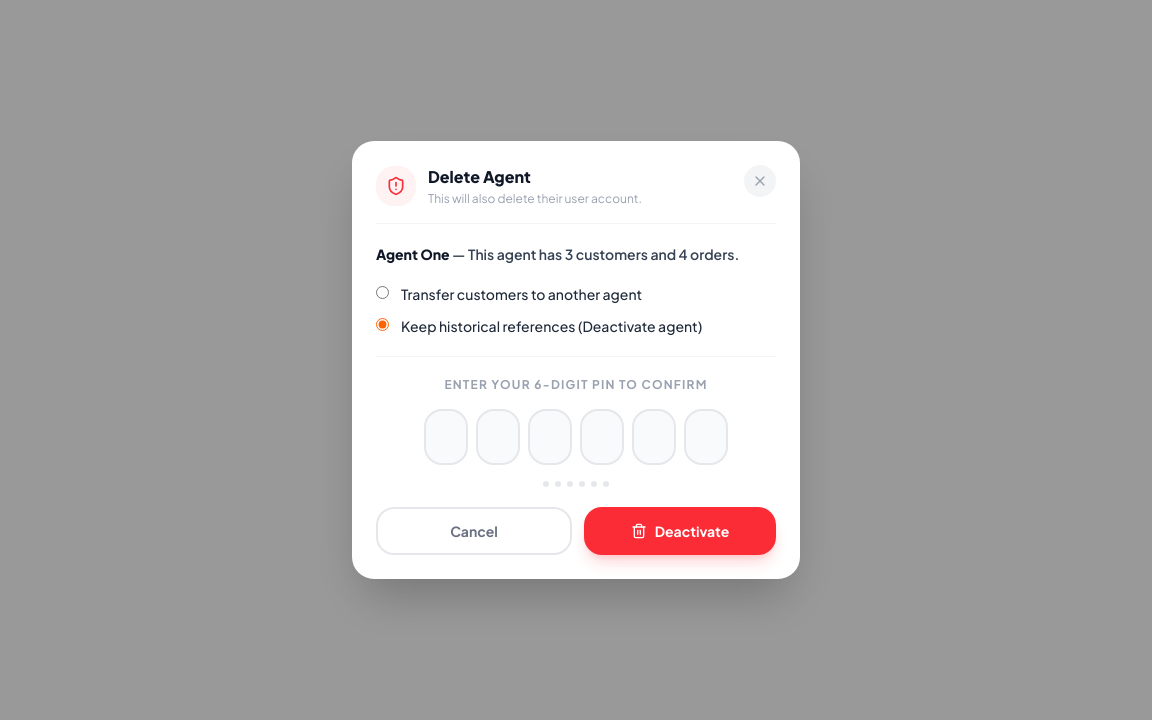
DeleteWithTransferDialog PIN flow › surfaces the backend's own error message and clears the PIN
Expected: the text "Enter your 6-digit PIN to confirm" is shown, [444, 377, 708, 392]
In the 1st password field: (446, 437) [424, 409, 468, 465], type "1"
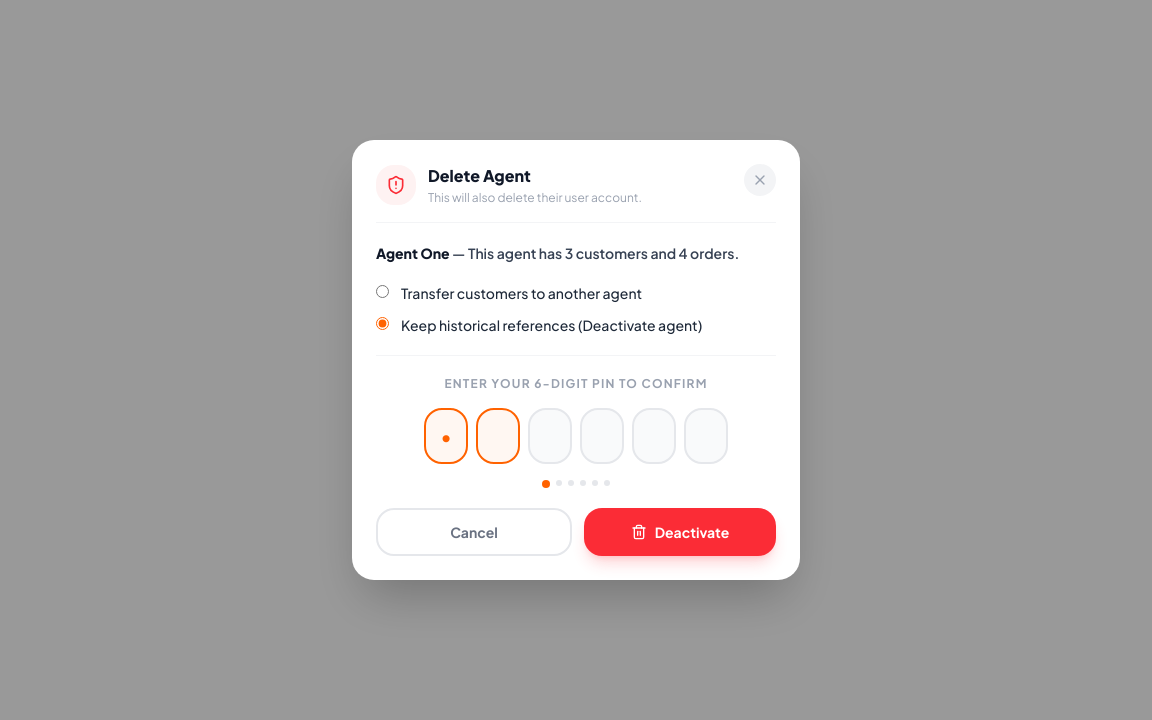
In the 2nd password field: (498, 436) [476, 408, 520, 464], type "2"
In the 3rd password field: (550, 436) [528, 408, 572, 464], type "3"
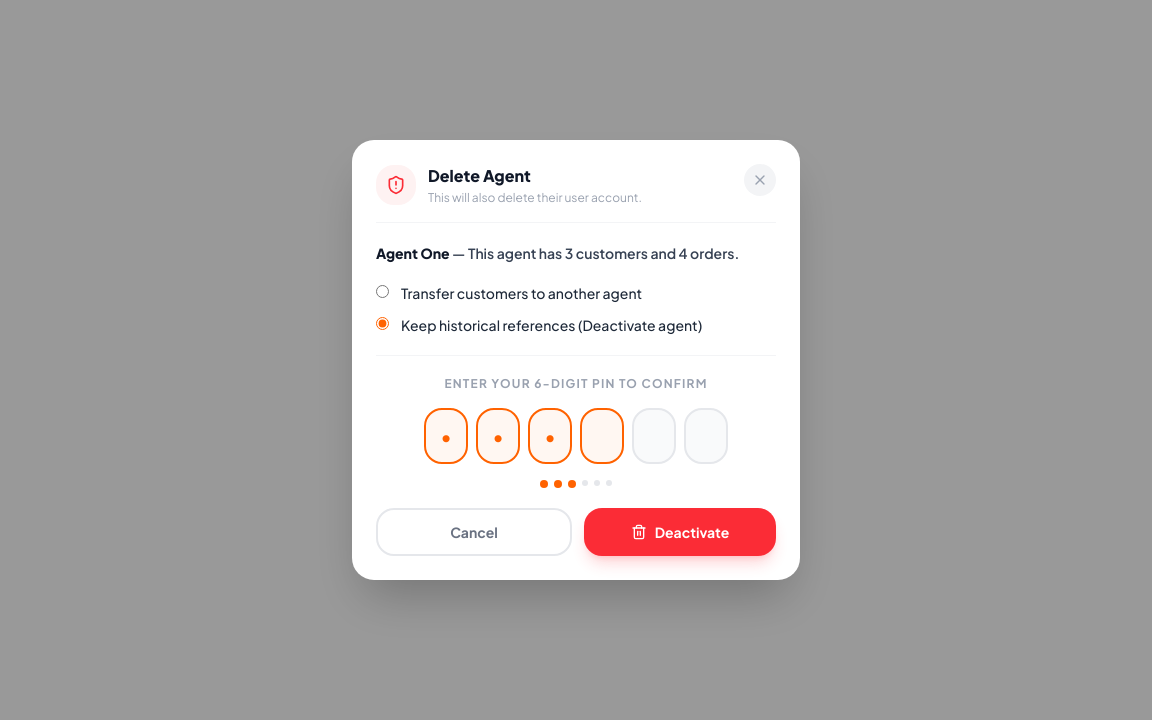
In the 4th password field: (602, 436) [580, 408, 624, 464], type "4"
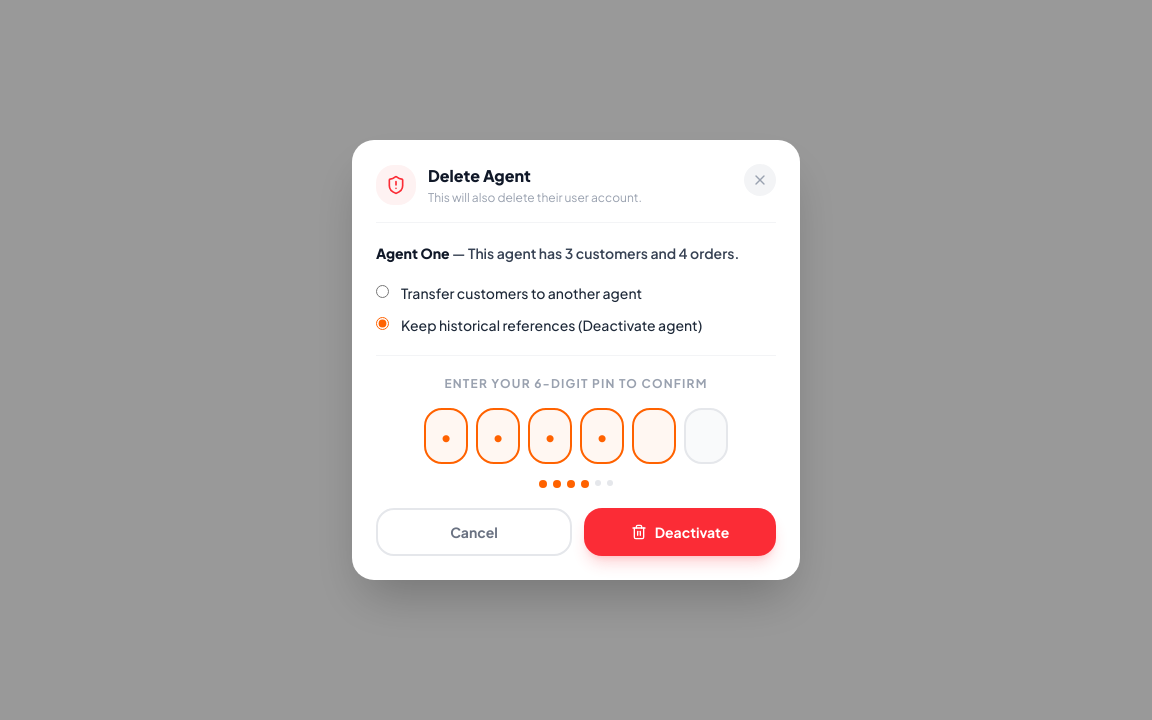
In the 5th password field: (654, 436) [632, 408, 676, 464], type "5"
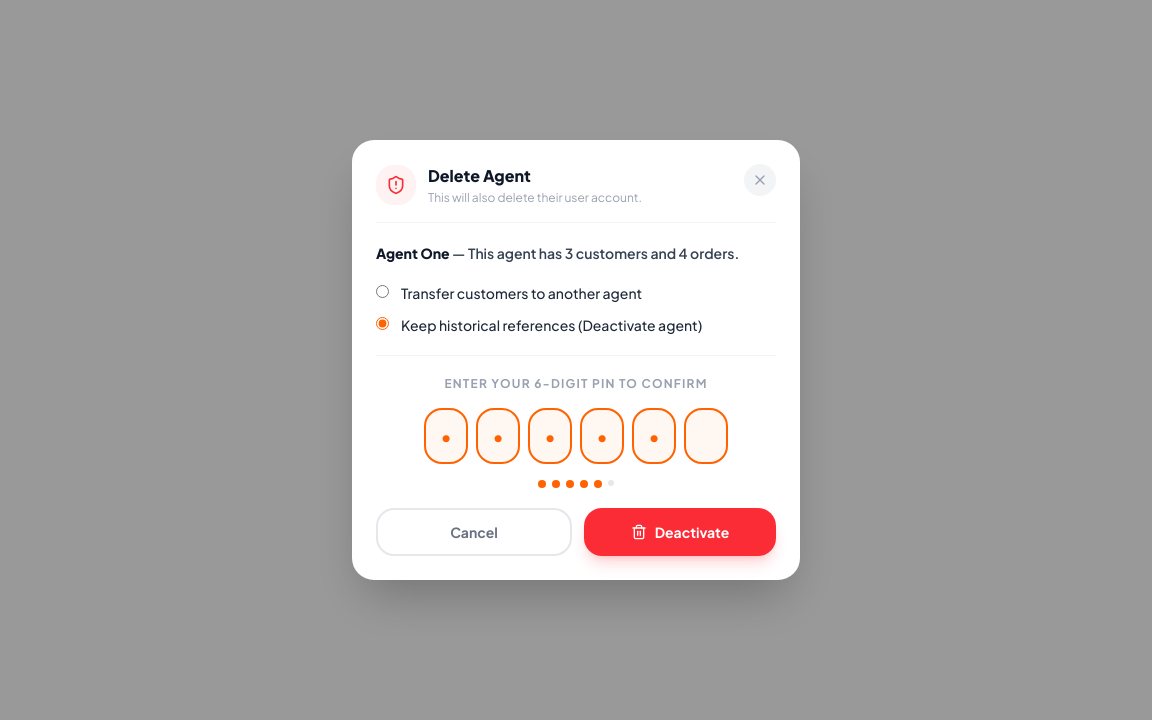
In the 6th password field: (706, 436) [684, 408, 728, 464], type "6"
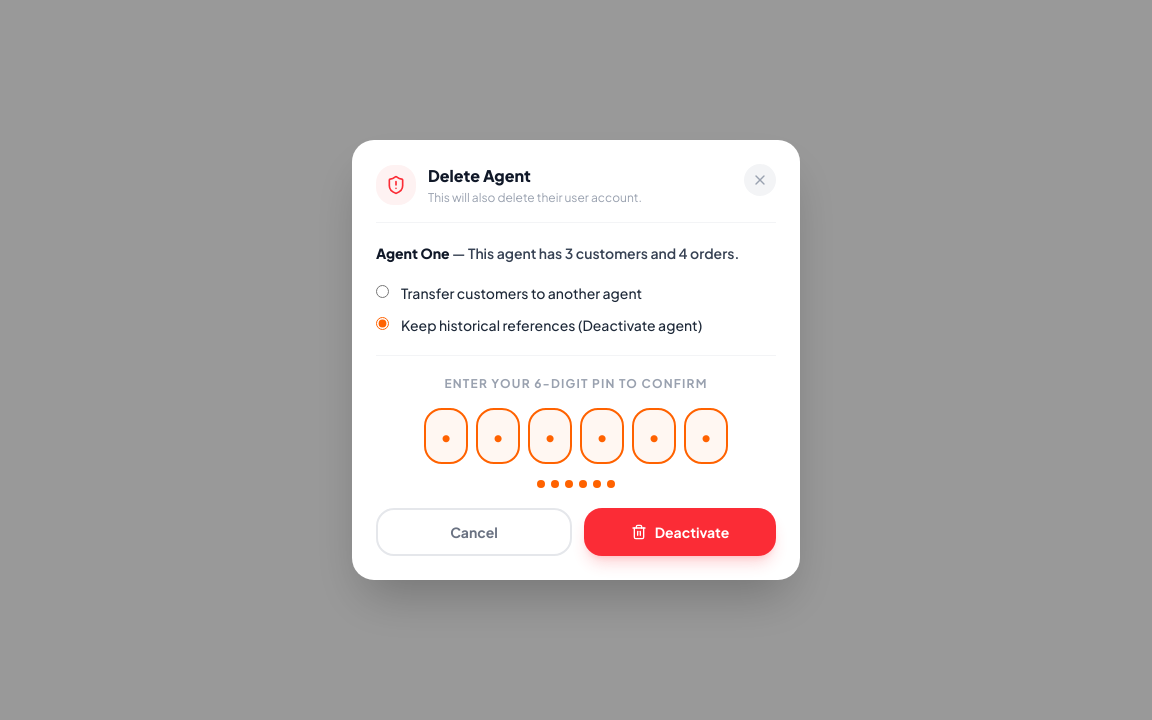
Click the button "Deactivate": (680, 532) [584, 508, 776, 556]
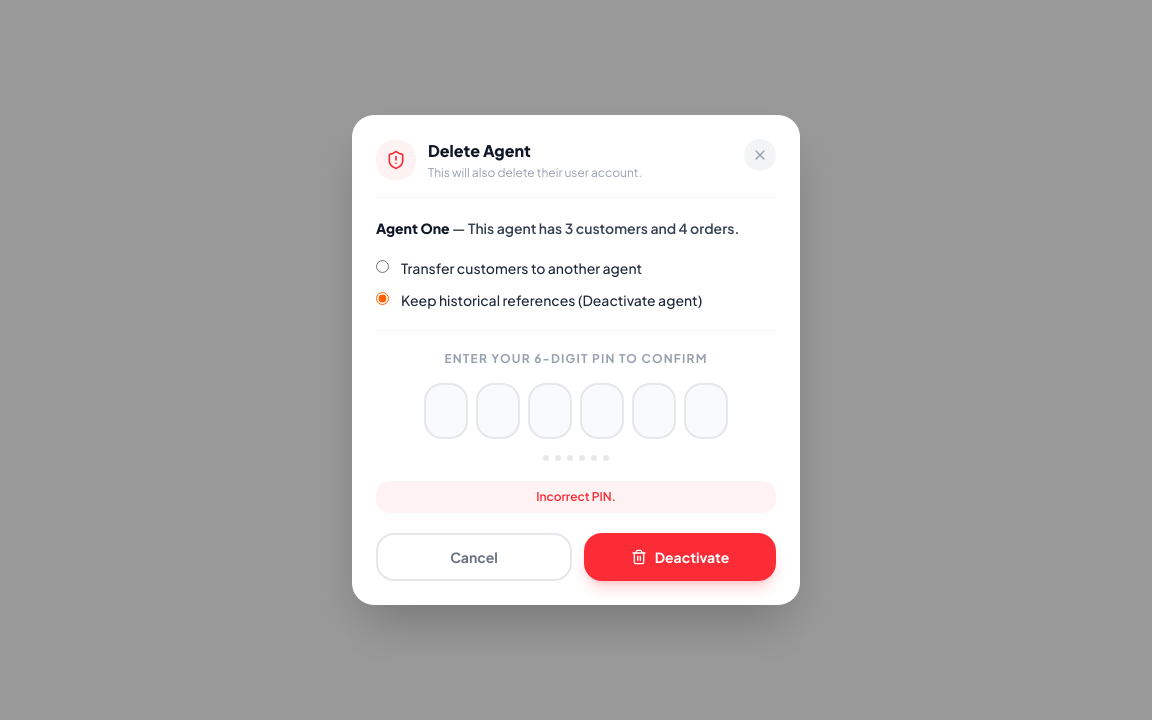
Now the text "Incorrect PIN." is shown, box [376, 481, 776, 513]
